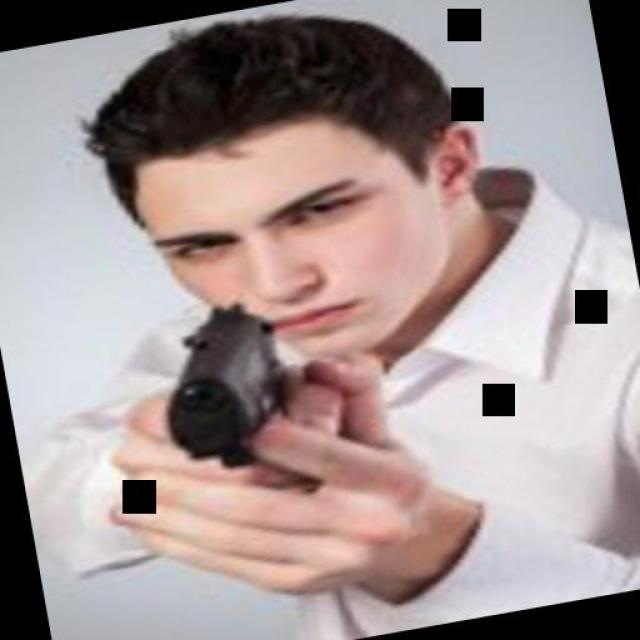gun: (135, 280, 309, 499)
